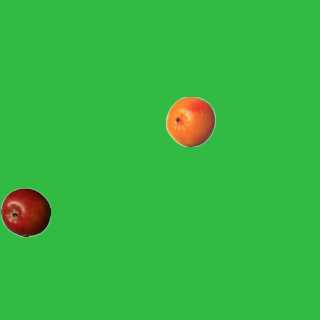Apple Braeburn: (0, 187, 50, 237)
Grapefruit Pink: (165, 96, 215, 146)
